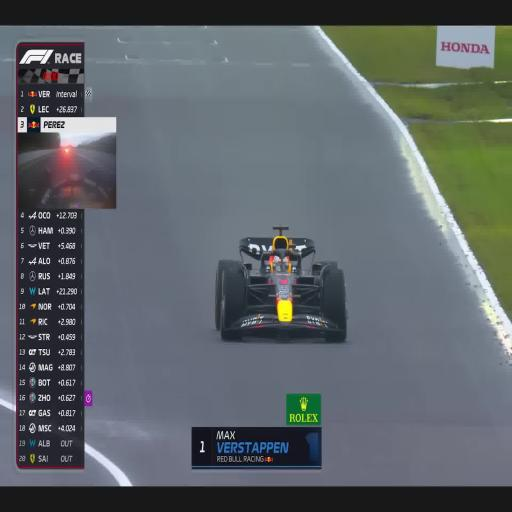f1_car: (215, 225, 347, 341)
